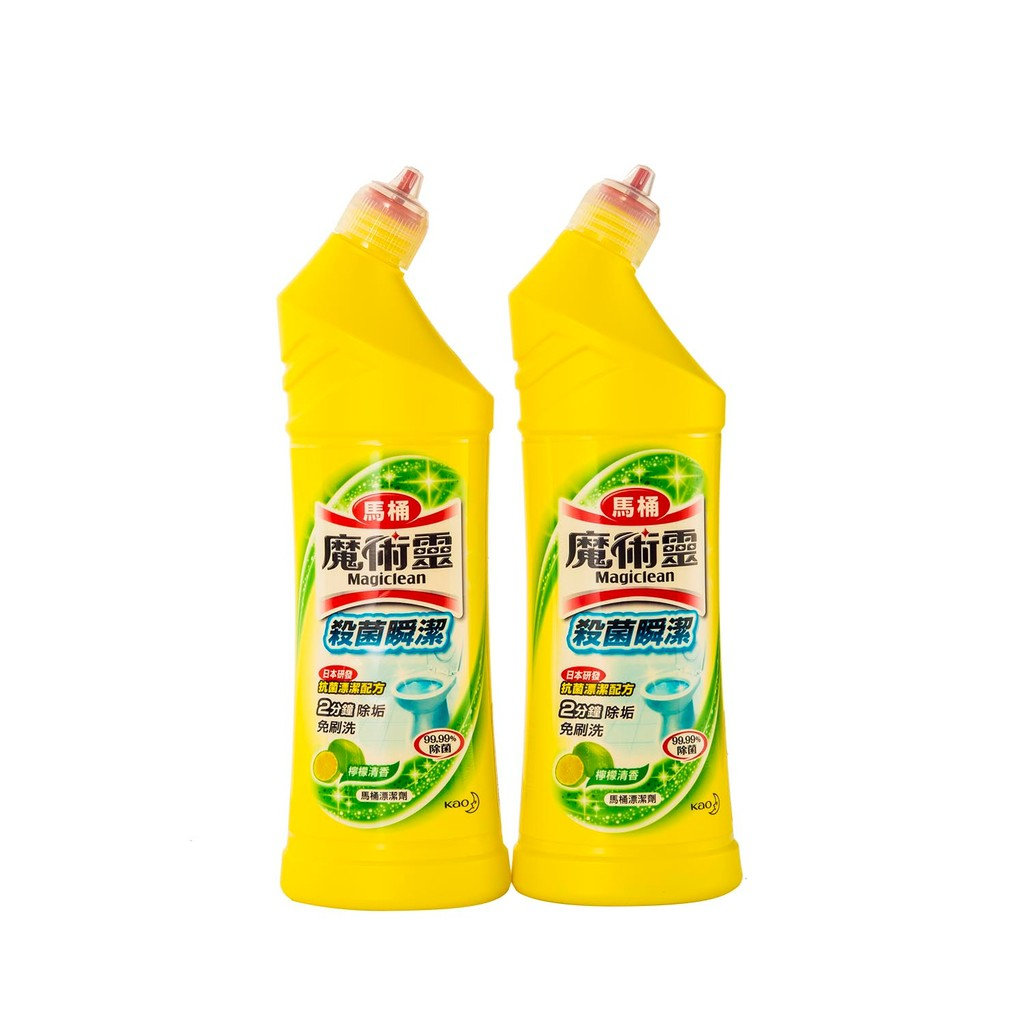cleaner: (253, 161, 538, 911), (489, 154, 758, 905)
